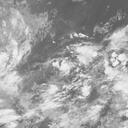cyclone: (44, 51, 109, 115)
